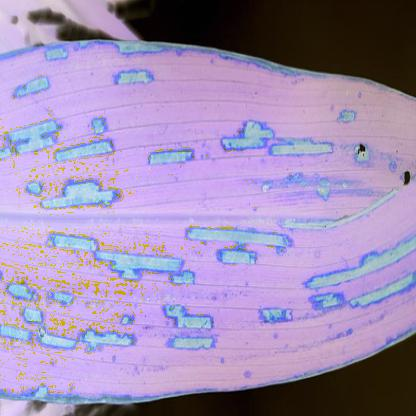corn gray leaf spot: (4, 27, 414, 415)
